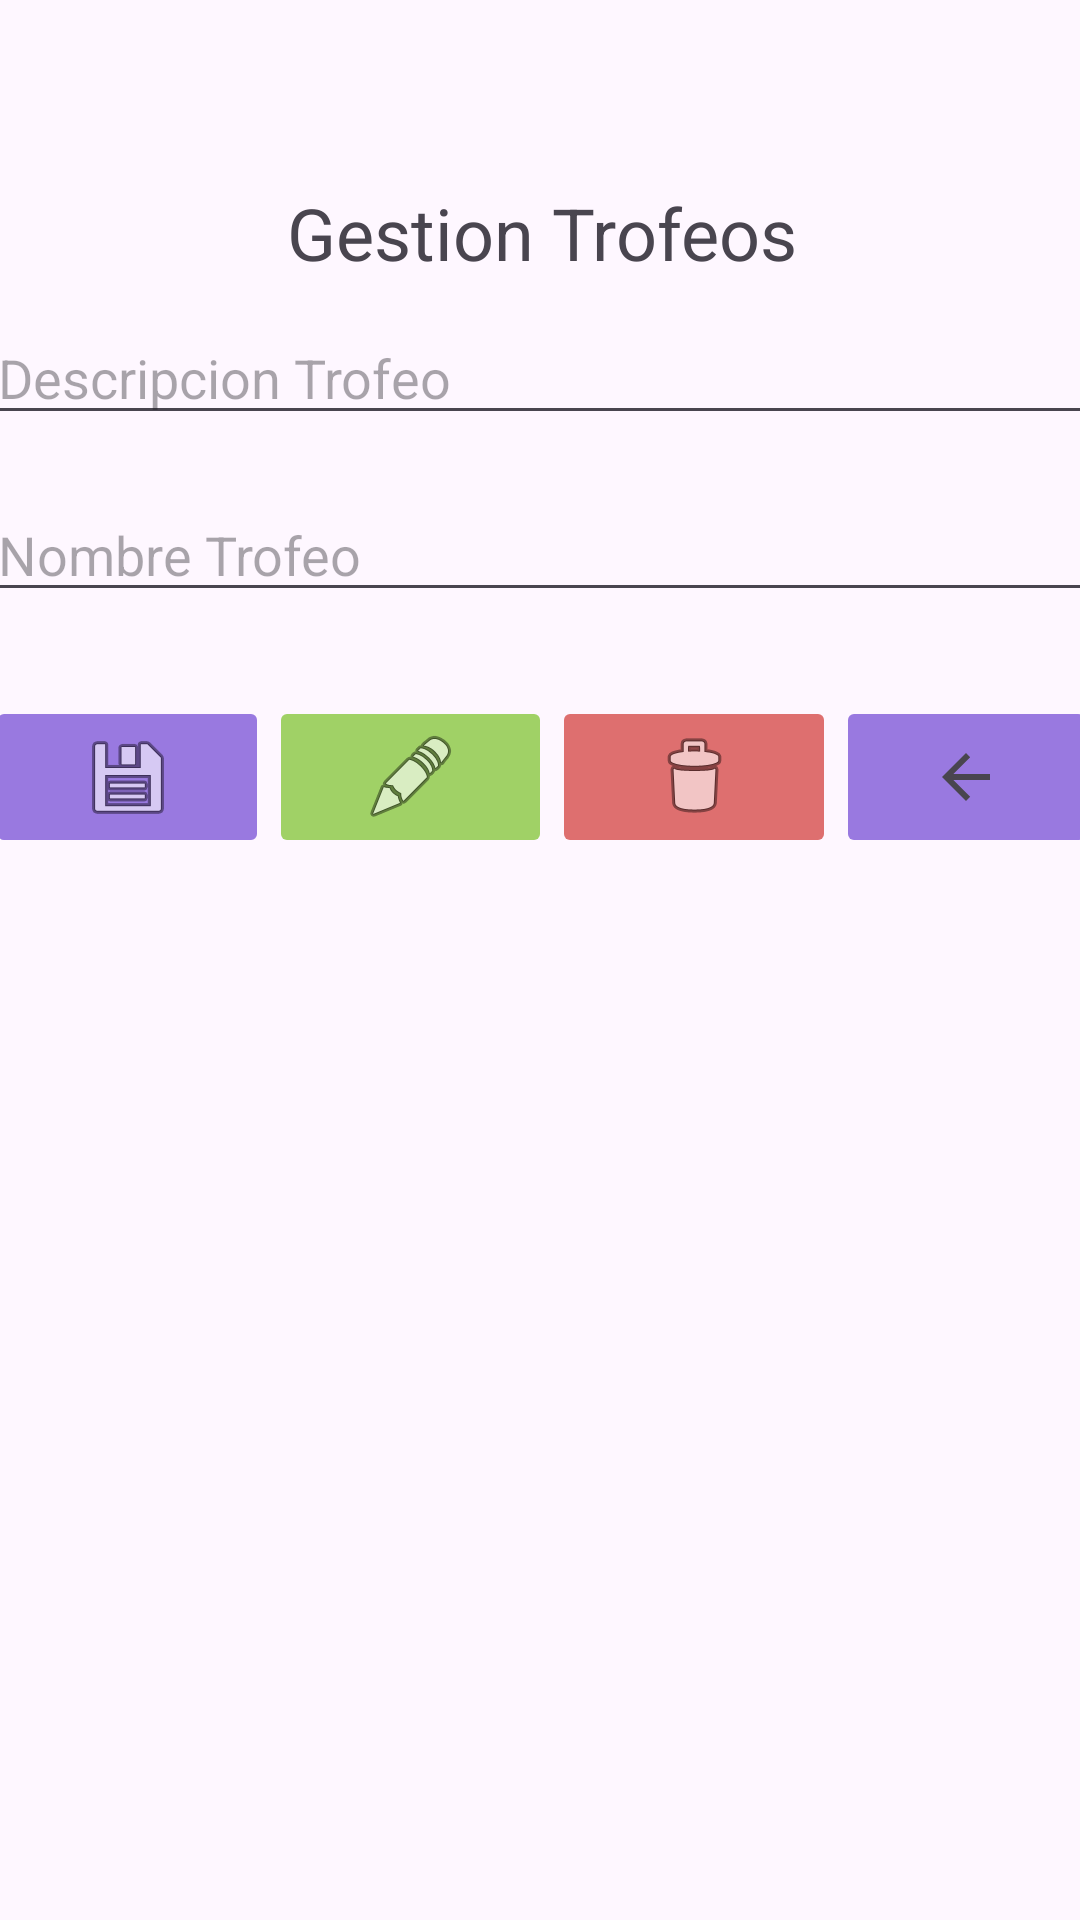

Locate icon controls on the screen. Image size 1080*1920, boxes as detection(x1, y1, x2, y2).
actualizar: detection(281, 714, 540, 840)
eliminar: detection(564, 714, 824, 840)
guardar: detection(0, 714, 257, 840)
volver: detection(848, 714, 1080, 840)
